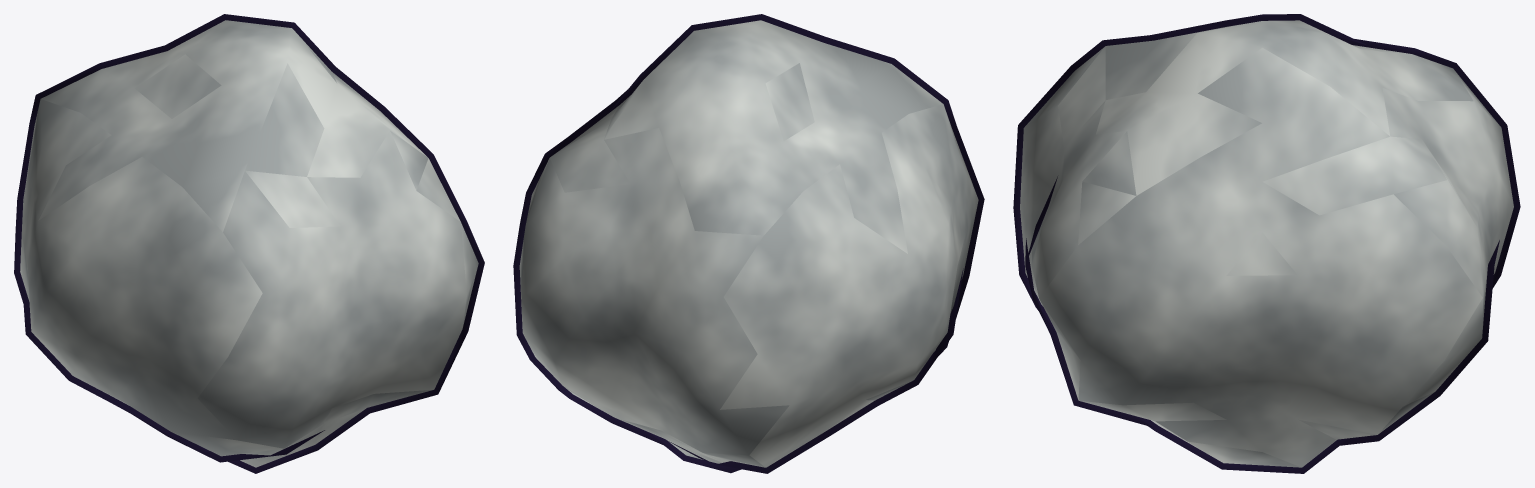
The model's file is rock1.glb.
3 renders of one model, left to right at view 1: azimuth 30°, elevation 25°; view 2: azimuth 150°, elevation 25°; view 3: azimuth 270°, elevation 25°, orthographic. The views are drawn at different scales.
Parts seen in each view (by area): view 1: rock1; view 2: rock1; view 3: rock1.
Part boxes in pixels (x1,y1,x2,y2): rock1: (14,14,484,473); rock1: (513,14,984,473); rock1: (1013,14,1520,473).
Size of the model in its own units: 0.8428 by 0.8895 by 0.9254.
Materials: 2 (1 with a texture image).
